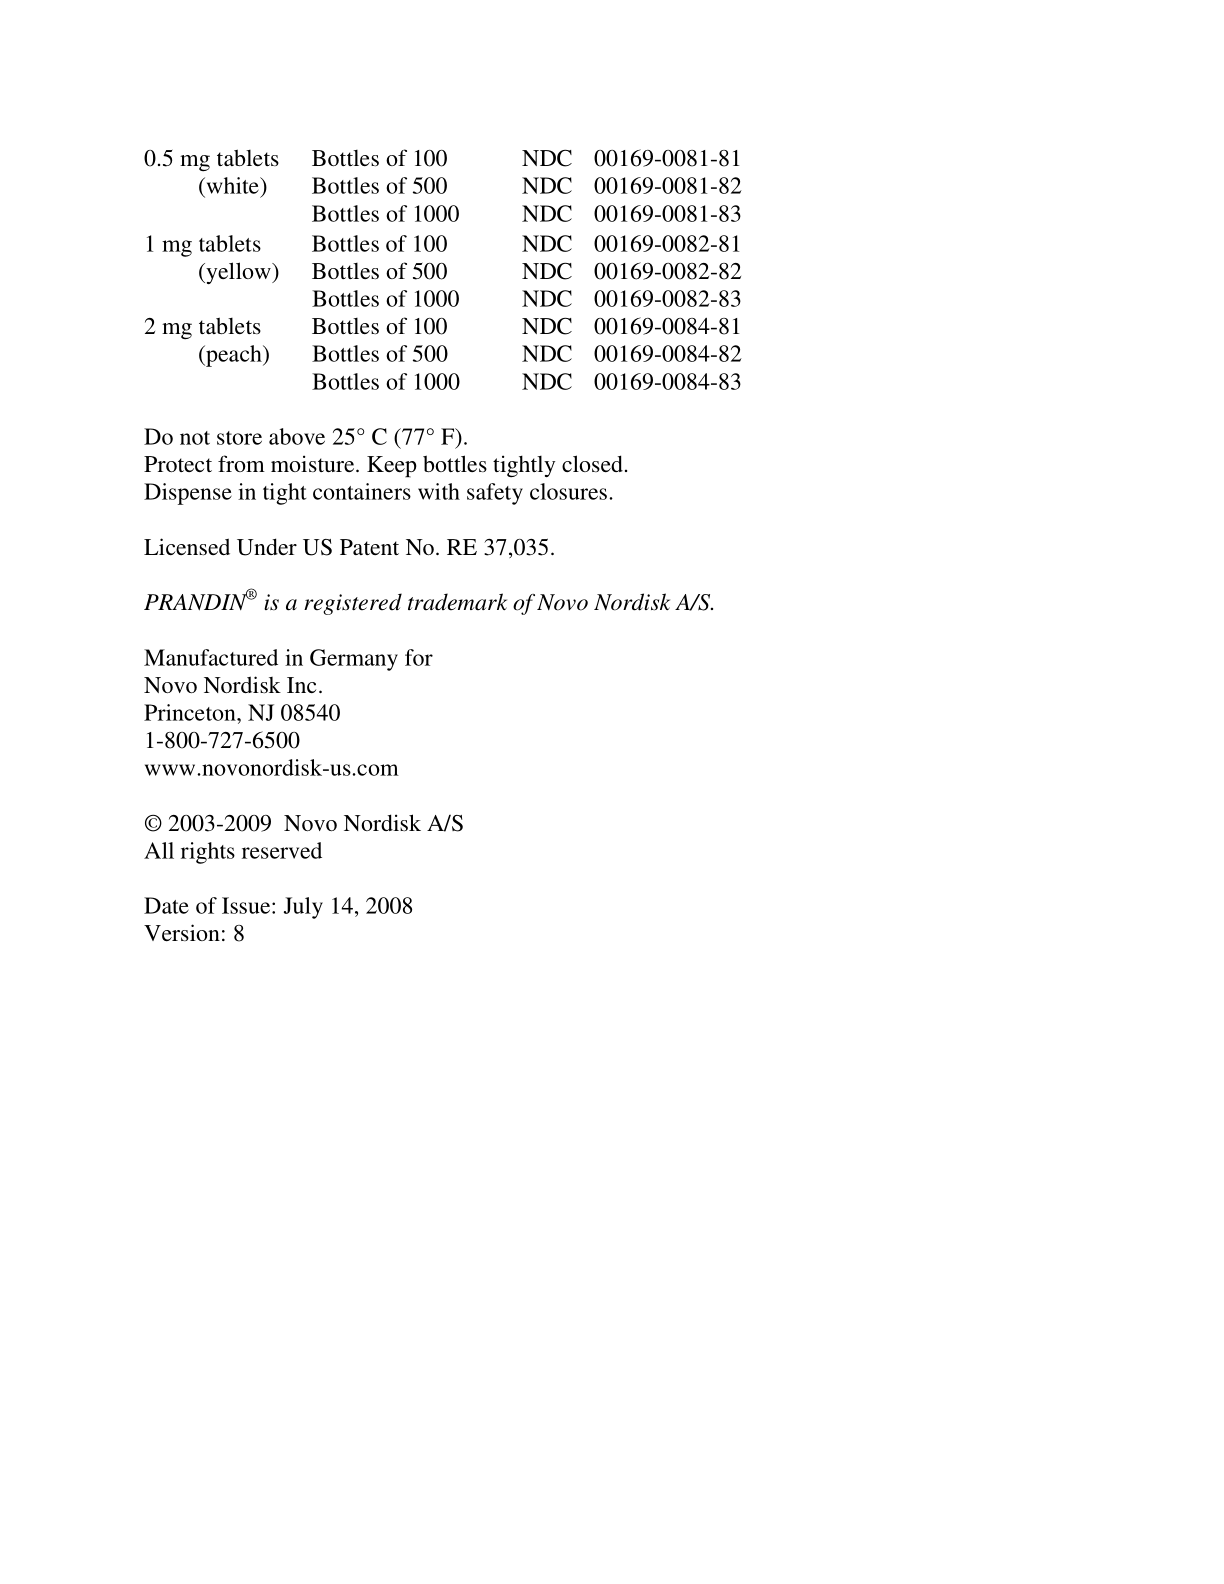nolines: (139, 144, 746, 393)
